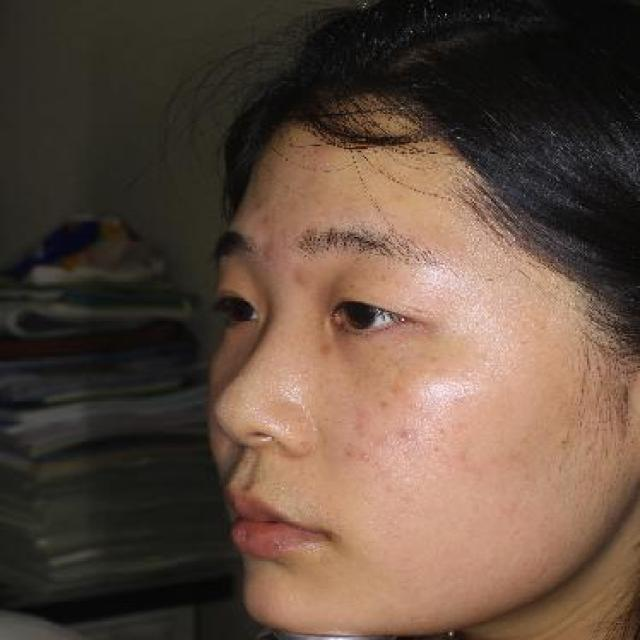dark spot: (253, 212, 279, 226), (510, 448, 525, 468), (448, 423, 469, 437), (453, 452, 469, 468), (488, 457, 500, 466)
papules: (260, 238, 277, 262), (354, 412, 370, 434), (250, 197, 272, 212), (358, 449, 377, 466), (318, 338, 334, 357), (387, 383, 404, 399), (396, 431, 418, 443), (296, 274, 308, 286), (344, 449, 352, 458)
